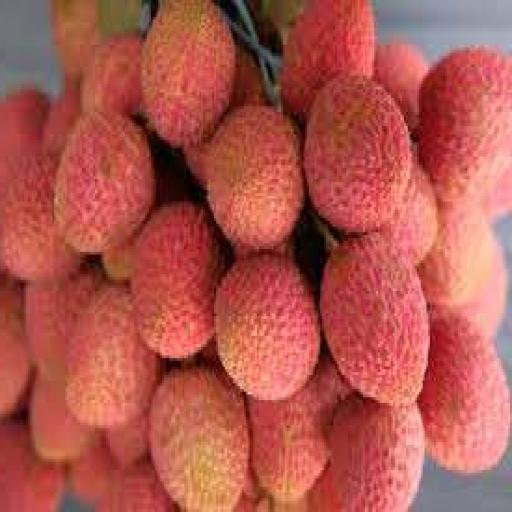lychee: (320, 236, 427, 405), (303, 76, 410, 232), (214, 255, 319, 400), (148, 367, 248, 511), (418, 314, 509, 472), (418, 48, 511, 201), (53, 112, 153, 254), (202, 107, 302, 249), (130, 202, 220, 358), (247, 359, 343, 503), (141, 0, 233, 145), (65, 286, 157, 428), (281, 0, 373, 117), (329, 398, 423, 511), (0, 154, 79, 279), (24, 269, 101, 380), (418, 202, 492, 307), (431, 241, 507, 341), (27, 375, 95, 461), (381, 163, 436, 265), (374, 40, 427, 134), (80, 34, 140, 114), (0, 275, 30, 416), (50, 0, 99, 78), (98, 462, 175, 511), (68, 440, 116, 506), (40, 82, 80, 156), (104, 415, 147, 467), (484, 163, 511, 221), (100, 236, 134, 282)
